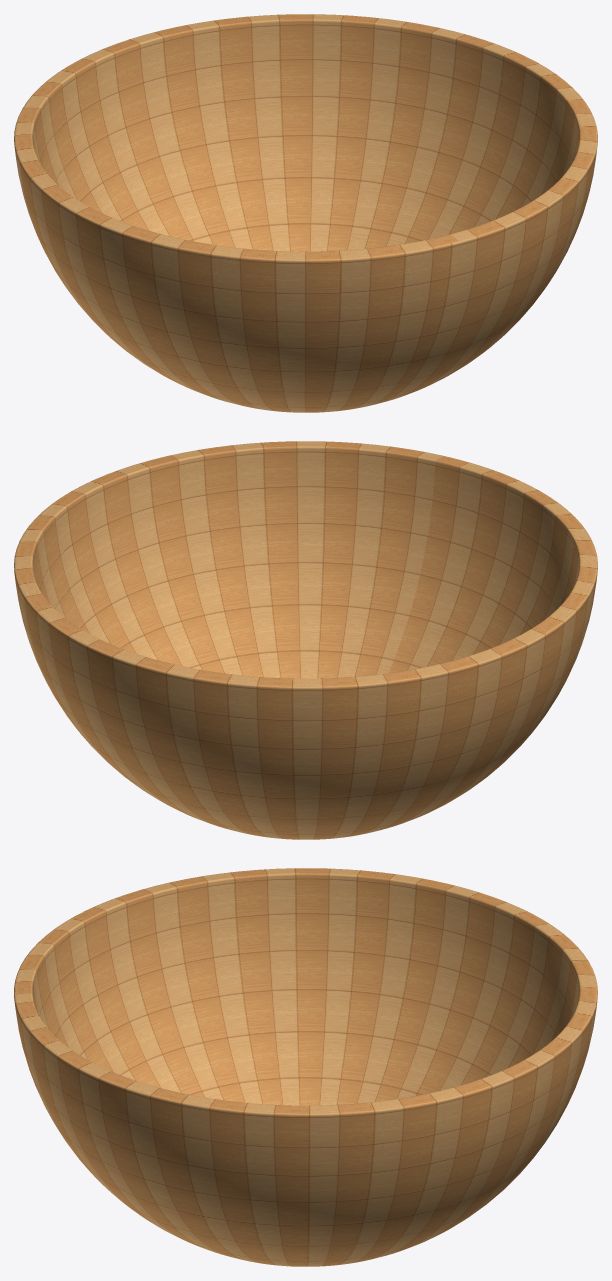
File: BLANDA_MATT_Salad_Bowl.obj
3 views of the same model, one above another, from view 1: azimuth 30°, elevation 25°; view 2: azimuth 150°, elevation 25°; view 3: azimuth 270°, elevation 25° (orthographic).
Parts seen in each view (by area): view 1: IKEA_BLANDA_MATT_Saladier; view 2: IKEA_BLANDA_MATT_Saladier; view 3: IKEA_BLANDA_MATT_Saladier.
Boxes of the visible parts, left/top/right/bottom form: IKEA_BLANDA_MATT_Saladier: left=14, top=14, right=597, bottom=412; IKEA_BLANDA_MATT_Saladier: left=14, top=441, right=597, bottom=839; IKEA_BLANDA_MATT_Saladier: left=14, top=868, right=597, bottom=1266.
Size of the model in its own units: 282 by 133 by 282.
